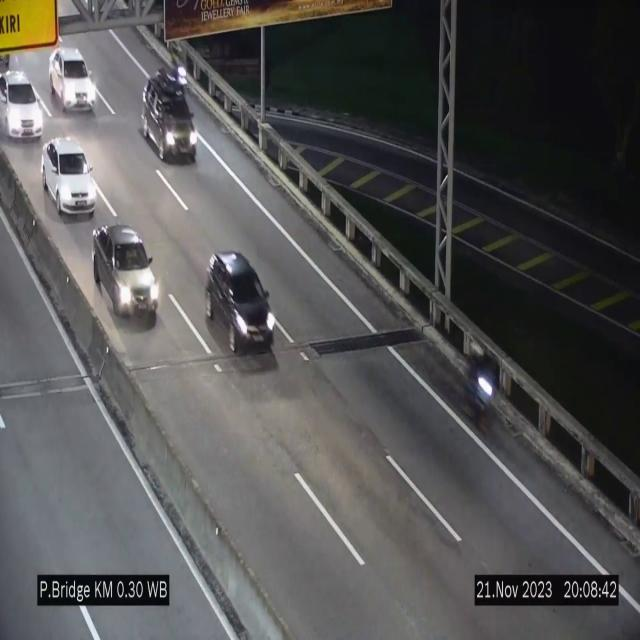Car: (207, 252, 274, 354), (92, 223, 158, 323), (146, 73, 200, 164), (42, 137, 96, 216), (50, 48, 96, 114), (0, 71, 43, 140)
Motorcycle: (162, 35, 195, 112), (470, 350, 494, 439)
